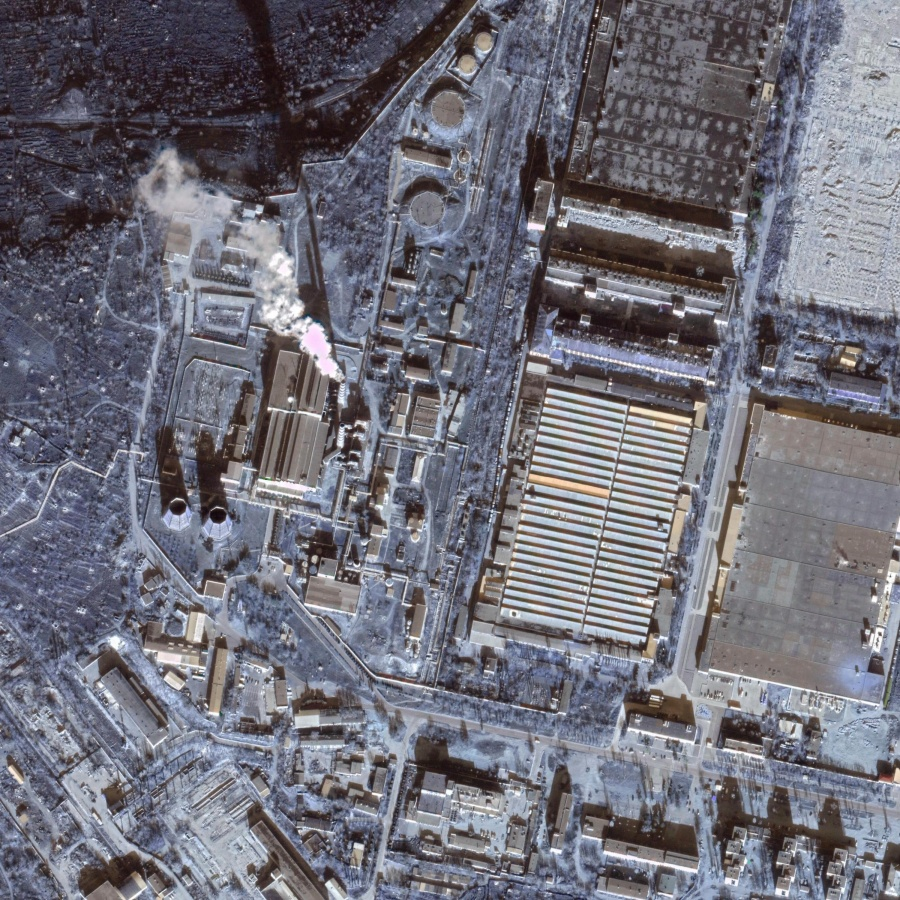PowerPlant: (149, 291, 372, 552)
